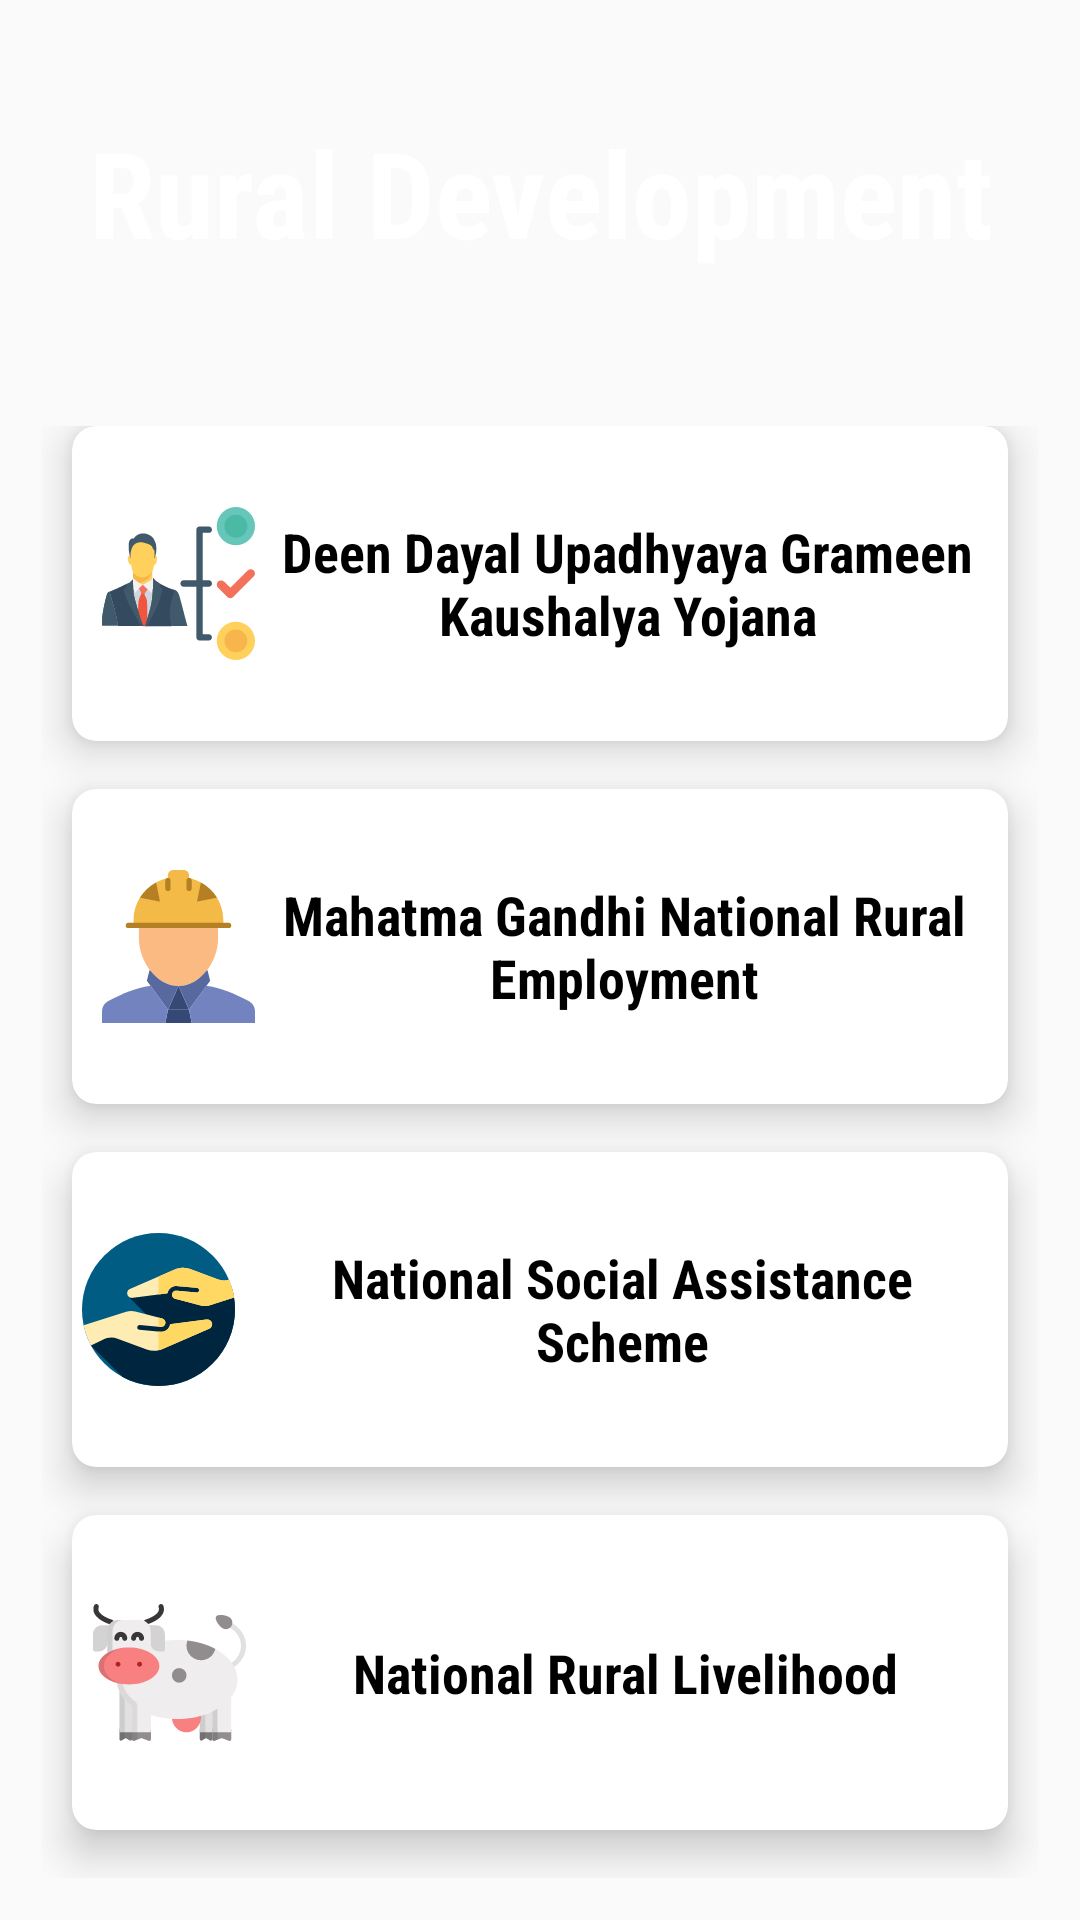

Where to tap for icons on this 1080*1920 app screen, as (x,y):
cowc: (169,1672)
engineer: (178,946)
help: (158,1309)
skills: (178,583)
